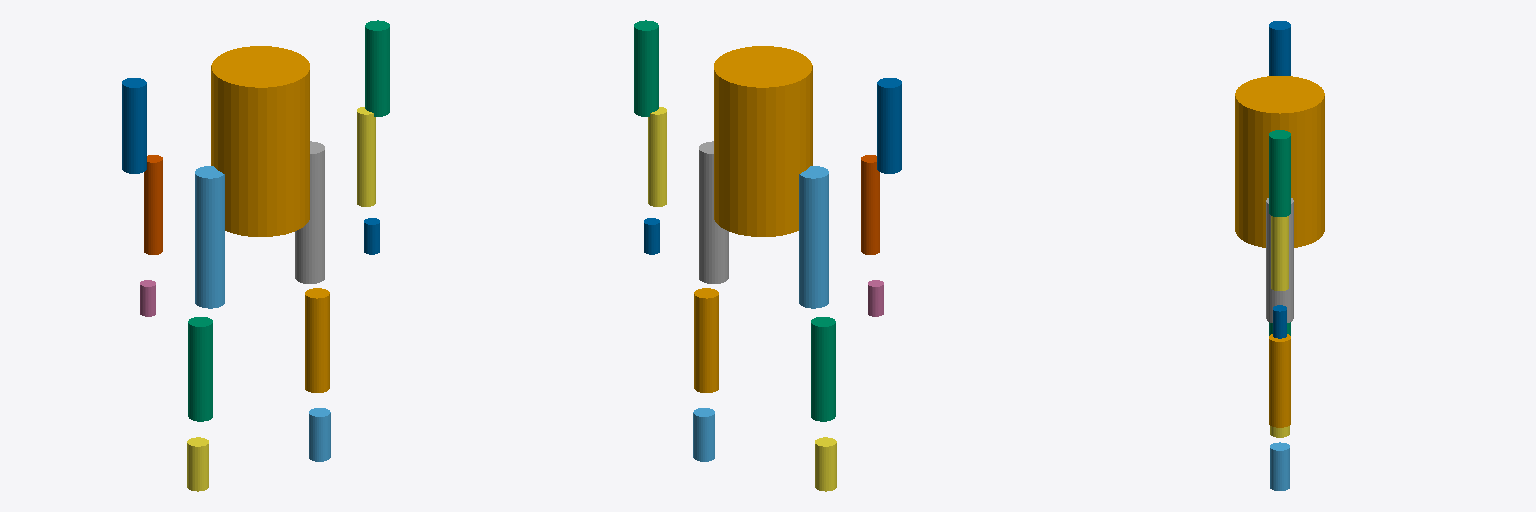
The robot description file, URDF, robot "V50_Mecha":
<?xml version="1.0" ?>
<robot name="V50_Mecha">
  <link name="torso">
    <inertial>
      <mass value="112.0"/>
      <inertia ixx="4.2672" ixy="0" ixz="0" iyy="4.2672" iyz="0" izz="1.8144"/>
    </inertial>
    <visual>
      <geometry>
        <cylinder radius="0.18" length="0.6"/>
      </geometry>
    </visual>
  </link>
  <link name="upper_leg_L">
    <inertial>
      <mass value="22.400000000000002"/>
      <inertia ixx="0.524673" ixy="0" ixz="0" iyy="0.524673" iyz="0" izz="0.03388"/>
    </inertial>
    <visual>
      <geometry>
        <cylinder radius="0.055" length="0.521536192416212"/>
      </geometry>
    </visual>
  </link>
  <link name="lower_leg_L">
    <inertial>
      <mass value="14.0"/>
      <inertia ixx="0.175671" ixy="0" ixz="0" iyy="0.175671" iyz="0" izz="0.014175"/>
    </inertial>
    <visual>
      <geometry>
        <cylinder radius="0.045" length="0.38013155617496425"/>
      </geometry>
    </visual>
  </link>
  <link name="foot_L">
    <inertial>
      <mass value="5.6000000000000005"/>
      <inertia ixx="0.01736" ixy="0" ixz="0" iyy="0.01736" iyz="0" izz="0.00448"/>
    </inertial>
    <visual>
      <geometry>
        <cylinder radius="0.04" length="0.18"/>
      </geometry>
    </visual>
  </link>
  <link name="upper_arm_L">
    <inertial>
      <mass value="11.200000000000001"/>
      <inertia ixx="0.117013" ixy="0" ixz="0" iyy="0.117013" iyz="0" izz="0.01134"/>
    </inertial>
    <visual>
      <geometry>
        <cylinder radius="0.045" length="0.34539253031876654"/>
      </geometry>
    </visual>
  </link>
  <link name="lower_arm_L">
    <inertial>
      <mass value="7.0"/>
      <inertia ixx="0.082284" ixy="0" ixz="0" iyy="0.082284" iyz="0" izz="0.004288"/>
    </inertial>
    <visual>
      <geometry>
        <cylinder radius="0.035" length="0.3706534769835567"/>
      </geometry>
    </visual>
  </link>
  <link name="hand_L">
    <inertial>
      <mass value="2.8000000000000003"/>
      <inertia ixx="0.00399" ixy="0" ixz="0" iyy="0.00399" iyz="0" izz="0.00126"/>
    </inertial>
    <visual>
      <geometry>
        <cylinder radius="0.03" length="0.12"/>
      </geometry>
    </visual>
  </link>
  <link name="upper_leg_R">
    <inertial>
      <mass value="22.400000000000002"/>
      <inertia ixx="0.524673" ixy="0" ixz="0" iyy="0.524673" iyz="0" izz="0.03388"/>
    </inertial>
    <visual>
      <geometry>
        <cylinder radius="0.055" length="0.521536192416212"/>
      </geometry>
    </visual>
  </link>
  <link name="lower_leg_R">
    <inertial>
      <mass value="14.0"/>
      <inertia ixx="0.175671" ixy="0" ixz="0" iyy="0.175671" iyz="0" izz="0.014175"/>
    </inertial>
    <visual>
      <geometry>
        <cylinder radius="0.045" length="0.38013155617496425"/>
      </geometry>
    </visual>
  </link>
  <link name="foot_R">
    <inertial>
      <mass value="5.6000000000000005"/>
      <inertia ixx="0.01736" ixy="0" ixz="0" iyy="0.01736" iyz="0" izz="0.00448"/>
    </inertial>
    <visual>
      <geometry>
        <cylinder radius="0.04" length="0.18"/>
      </geometry>
    </visual>
  </link>
  <link name="upper_arm_R">
    <inertial>
      <mass value="11.200000000000001"/>
      <inertia ixx="0.117013" ixy="0" ixz="0" iyy="0.117013" iyz="0" izz="0.01134"/>
    </inertial>
    <visual>
      <geometry>
        <cylinder radius="0.045" length="0.34539253031876654"/>
      </geometry>
    </visual>
  </link>
  <link name="lower_arm_R">
    <inertial>
      <mass value="7.0"/>
      <inertia ixx="0.082284" ixy="0" ixz="0" iyy="0.082284" iyz="0" izz="0.004288"/>
    </inertial>
    <visual>
      <geometry>
        <cylinder radius="0.035" length="0.3706534769835567"/>
      </geometry>
    </visual>
  </link>
  <link name="hand_R">
    <inertial>
      <mass value="2.8000000000000003"/>
      <inertia ixx="0.00399" ixy="0" ixz="0" iyy="0.00399" iyz="0" izz="0.00126"/>
    </inertial>
    <visual>
      <geometry>
        <cylinder radius="0.03" length="0.12"/>
      </geometry>
    </visual>
  </link>
  <joint name="hip_L" type="revolute">
    <parent link="torso"/>
    <child link="upper_leg_L"/>
    <origin xyz="-0.213000 0.000000 -0.334000" rpy="0 0 0"/>
    <axis xyz="1 0 0"/>
    <limit lower="-0.698" upper="0.698" effort="500" velocity="3.14"/>
  </joint>
  <joint name="knee_L" type="revolute">
    <parent link="upper_leg_L"/>
    <child link="lower_leg_L"/>
    <origin xyz="-0.040000 0.000000 -0.520000" rpy="0 0 0"/>
    <axis xyz="1 0 0"/>
    <limit lower="-0.524" upper="0.175" effort="500" velocity="3.14"/>
  </joint>
  <joint name="ankle_L" type="revolute">
    <parent link="lower_leg_L"/>
    <child link="foot_L"/>
    <origin xyz="-0.010000 0.000000 -0.380000" rpy="0 0 0"/>
    <axis xyz="1 0 0"/>
    <limit lower="-0.349" upper="0.349" effort="500" velocity="3.14"/>
  </joint>
  <joint name="shoulder_L" type="revolute">
    <parent link="torso"/>
    <child link="upper_arm_L"/>
    <origin xyz="-0.531000 0.000000 0.187000" rpy="0 0 0"/>
    <axis xyz="1 0 0"/>
    <limit lower="-1.745" upper="1.745" effort="500" velocity="3.14"/>
  </joint>
  <joint name="elbow_L" type="revolute">
    <parent link="upper_arm_L"/>
    <child link="lower_arm_L"/>
    <origin xyz="0.080000 0.000000 -0.336000" rpy="0 0 0"/>
    <axis xyz="1 0 0"/>
    <limit lower="-2.094" upper="0.175" effort="500" velocity="3.14"/>
  </joint>
  <joint name="wrist_L" type="revolute">
    <parent link="lower_arm_L"/>
    <child link="hand_L"/>
    <origin xyz="-0.022000 0.000000 -0.370000" rpy="0 0 0"/>
    <axis xyz="1 0 0"/>
    <limit lower="-0.524" upper="0.524" effort="500" velocity="3.14"/>
  </joint>
  <joint name="hip_R" type="revolute">
    <parent link="torso"/>
    <child link="upper_leg_R"/>
    <origin xyz="0.207000 0.000000 -0.334000" rpy="0 0 0"/>
    <axis xyz="1 0 0"/>
    <limit lower="-0.698" upper="0.698" effort="500" velocity="3.14"/>
  </joint>
  <joint name="knee_R" type="revolute">
    <parent link="upper_leg_R"/>
    <child link="lower_leg_R"/>
    <origin xyz="0.030000 0.000000 -0.520000" rpy="0 0 0"/>
    <axis xyz="1 0 0"/>
    <limit lower="-0.524" upper="0.175" effort="500" velocity="3.14"/>
  </joint>
  <joint name="ankle_R" type="revolute">
    <parent link="lower_leg_R"/>
    <child link="foot_R"/>
    <origin xyz="0.010000 0.000000 -0.380000" rpy="0 0 0"/>
    <axis xyz="1 0 0"/>
    <limit lower="-0.349" upper="0.349" effort="500" velocity="3.14"/>
  </joint>
  <joint name="shoulder_R" type="revolute">
    <parent link="torso"/>
    <child link="upper_arm_R"/>
    <origin xyz="0.490000 0.000000 0.178000" rpy="0 0 0"/>
    <axis xyz="1 0 0"/>
    <limit lower="-1.745" upper="1.745" effort="500" velocity="3.14"/>
  </joint>
  <joint name="elbow_R" type="revolute">
    <parent link="upper_arm_R"/>
    <child link="lower_arm_R"/>
    <origin xyz="-0.048000 0.000000 -0.342000" rpy="0 0 0"/>
    <axis xyz="1 0 0"/>
    <limit lower="-2.094" upper="0.175" effort="500" velocity="3.14"/>
  </joint>
  <joint name="wrist_R" type="revolute">
    <parent link="lower_arm_R"/>
    <child link="hand_R"/>
    <origin xyz="0.025000 0.000000 -0.325000" rpy="0 0 0"/>
    <axis xyz="1 0 0"/>
    <limit lower="-0.524" upper="0.524" effort="500" velocity="3.14"/>
  </joint>
</robot>

--- What the picture shows (computed from the rendered views, not written in the file) ---
3 views of the same robot in one strip: view 1: azimuth 30°, elevation 25°; view 2: azimuth 150°, elevation 25°; view 3: azimuth 270°, elevation 25° (orthographic).
Robot: V50_Mecha — 13 links, 12 joints (12 revolute); root link torso; default pose: every joint at zero.
Links seen in each view (by area): view 1: torso, upper_leg_L, upper_leg_R, lower_leg_R, lower_leg_L, upper_arm_L, upper_arm_R, lower_arm_L, lower_arm_R, foot_L, foot_R, hand_L (+1 smaller); view 2: torso, upper_leg_L, upper_leg_R, lower_leg_R, lower_leg_L, upper_arm_L, upper_arm_R, lower_arm_L, lower_arm_R, foot_L, foot_R, hand_L (+1 smaller); view 3: torso, lower_leg_R, upper_arm_R, upper_leg_R, lower_arm_R, upper_arm_L, foot_R.
Boxes of the visible links, <box> form: torso: <box>211,46,309,236</box>; upper_leg_L: <box>195,166,224,308</box>; upper_leg_R: <box>295,141,324,283</box>; lower_leg_R: <box>305,288,329,392</box>; lower_leg_L: <box>188,317,212,421</box>; upper_arm_L: <box>122,78,146,173</box>; upper_arm_R: <box>365,20,389,116</box>; lower_arm_L: <box>144,155,162,254</box>; lower_arm_R: <box>357,107,375,206</box>; foot_L: <box>187,437,208,491</box>; foot_R: <box>309,408,330,461</box>; hand_L: <box>140,280,155,316</box>; torso: <box>714,46,812,236</box>; upper_leg_L: <box>799,166,828,308</box>; upper_leg_R: <box>699,141,728,283</box>; lower_leg_R: <box>694,288,718,392</box>; lower_leg_L: <box>811,317,835,421</box>; upper_arm_L: <box>877,78,901,173</box>; upper_arm_R: <box>634,20,658,116</box>; lower_arm_L: <box>861,155,879,254</box>; lower_arm_R: <box>648,107,666,206</box>; foot_L: <box>815,437,836,491</box>; foot_R: <box>693,408,714,461</box>; hand_L: <box>868,280,883,316</box>; torso: <box>1235,76,1324,247</box>; lower_leg_R: <box>1269,334,1290,427</box>; upper_arm_R: <box>1269,130,1290,216</box>; upper_leg_R: <box>1266,198,1293,322</box>; lower_arm_R: <box>1271,216,1288,290</box>; upper_arm_L: <box>1269,21,1290,75</box>; foot_R: <box>1270,442,1289,490</box>.
Size in the robot's own frame: 1.11 by 0.36 by 1.68 metres.
Geometry: primitives only (box / cylinder / sphere), no mesh files.
